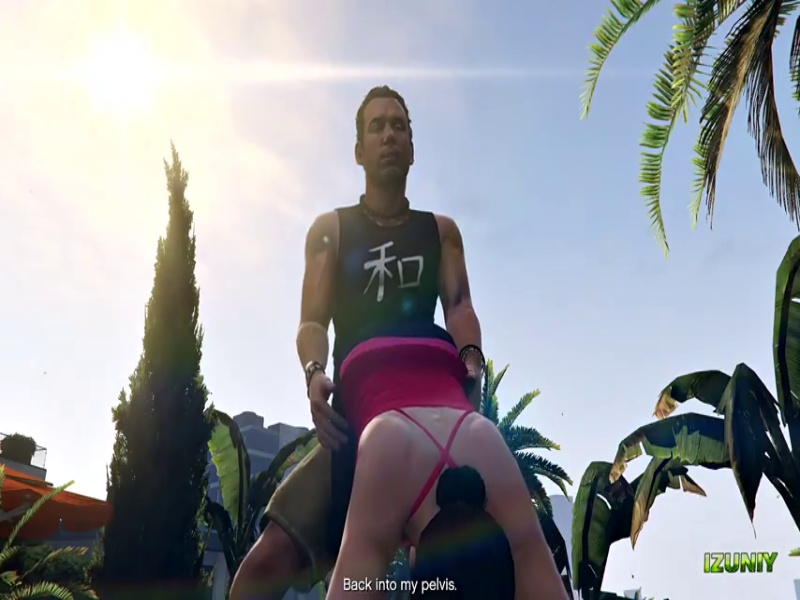human: (252, 90, 536, 571)
